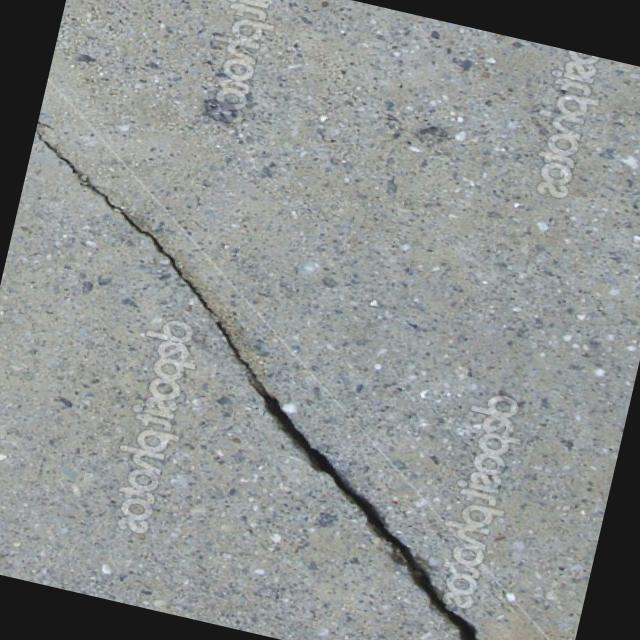crack: (0, 120, 609, 640)
